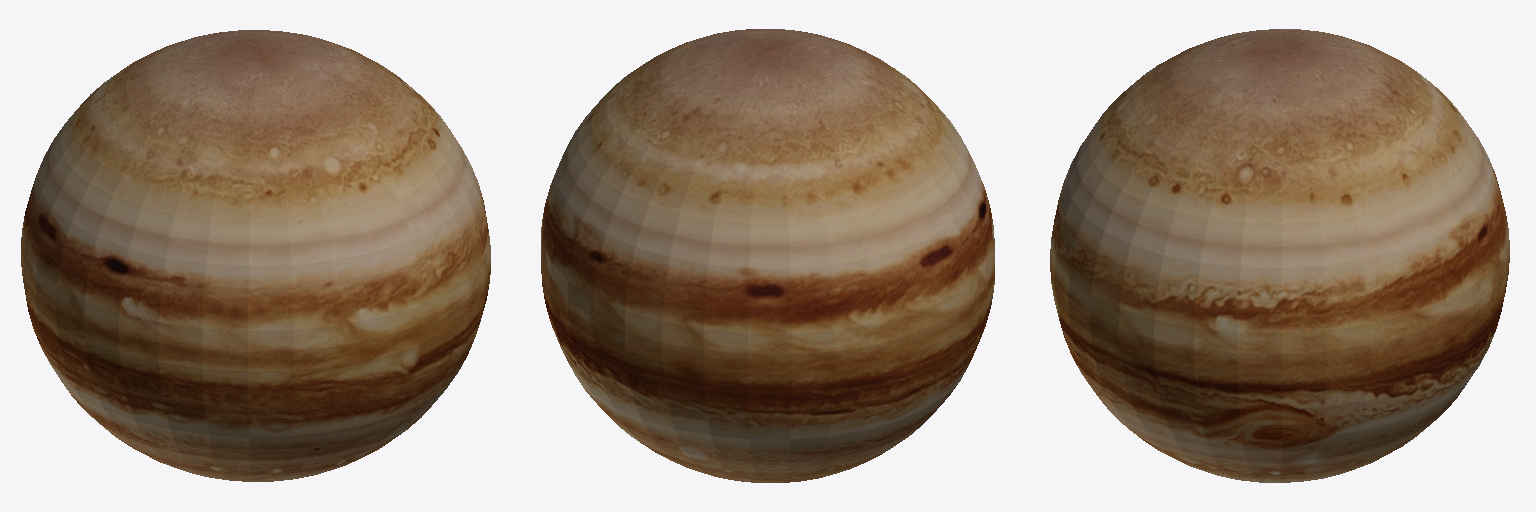
3 renders of one model, left to right at view 1: azimuth 30°, elevation 25°; view 2: azimuth 150°, elevation 25°; view 3: azimuth 270°, elevation 25°, orthographic.
Visible parts, largest first — view 1: Jupiter.001_Sphere.000; view 2: Jupiter.001_Sphere.000; view 3: Jupiter.001_Sphere.000.
Part boxes in pixels (left/top/right/bottom): Jupiter.001_Sphere.000: left=21, top=30, right=490, bottom=481; Jupiter.001_Sphere.000: left=541, top=29, right=994, bottom=482; Jupiter.001_Sphere.000: left=1050, top=29, right=1509, bottom=482.
Size of the model in its own units: 7.34 by 7.15 by 7.27.
Materials: 1 (1 with a texture image).